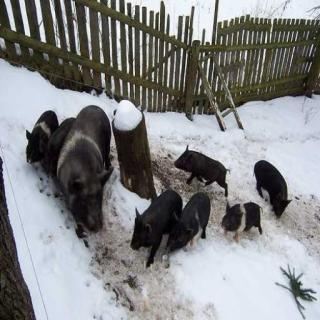Pig: (68, 87, 116, 240), (181, 134, 242, 203), (169, 172, 215, 258), (132, 163, 166, 259), (250, 155, 290, 235), (30, 85, 53, 181), (223, 190, 252, 238), (243, 195, 280, 232)
